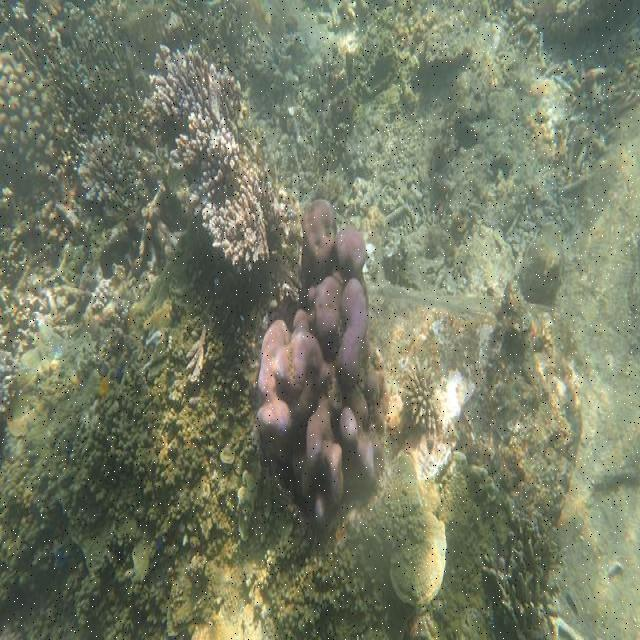reefs: (256, 198, 404, 524), (140, 44, 300, 267), (46, 19, 145, 210), (359, 454, 447, 606), (1, 50, 65, 174), (405, 354, 442, 428)
